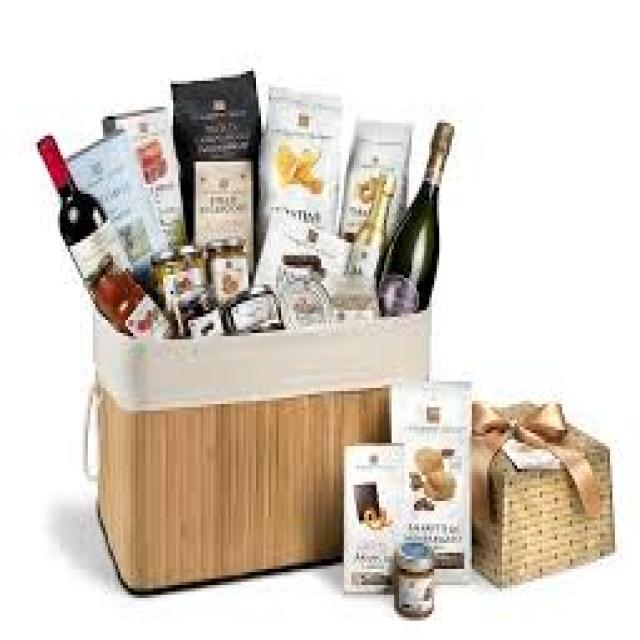bread: (392, 378, 482, 594)
cake roll: (483, 380, 630, 616)
candy: (337, 439, 402, 601)
liquor: (379, 123, 459, 320), (38, 136, 133, 297)
noodle: (264, 87, 349, 252)
